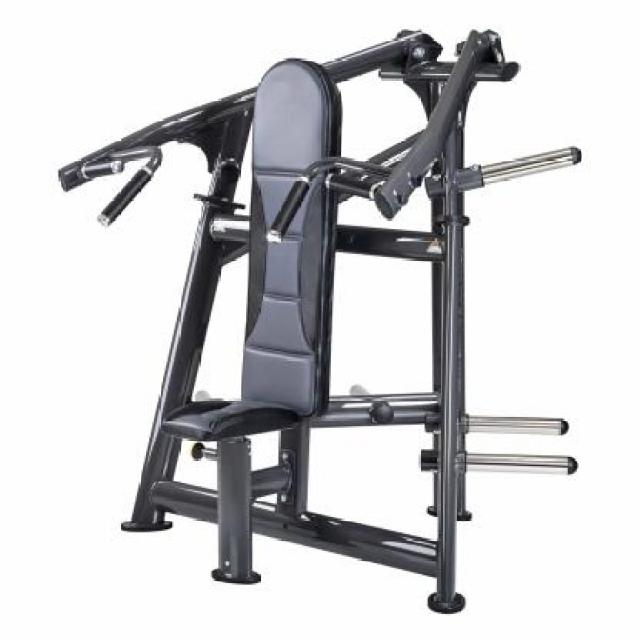shoulder press machine: (40, 16, 617, 622)
